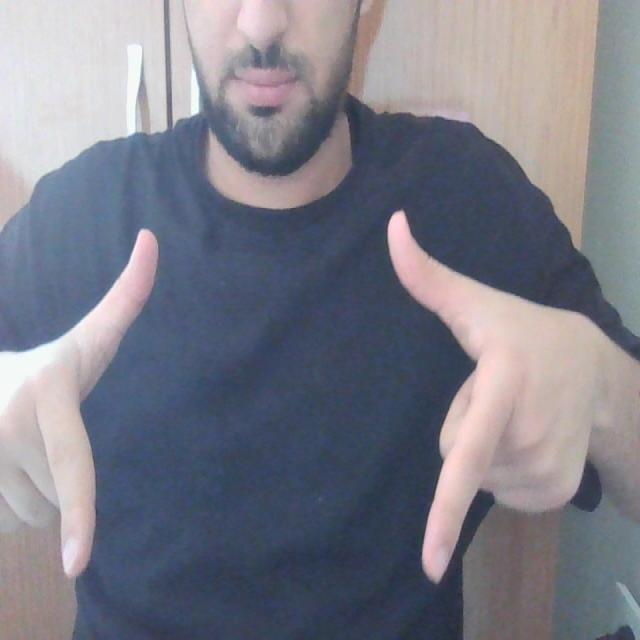Nerede: (23, 207, 525, 589)
